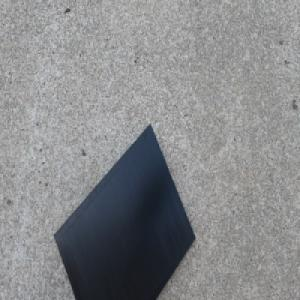PlasticPart: (53, 122, 196, 300)
